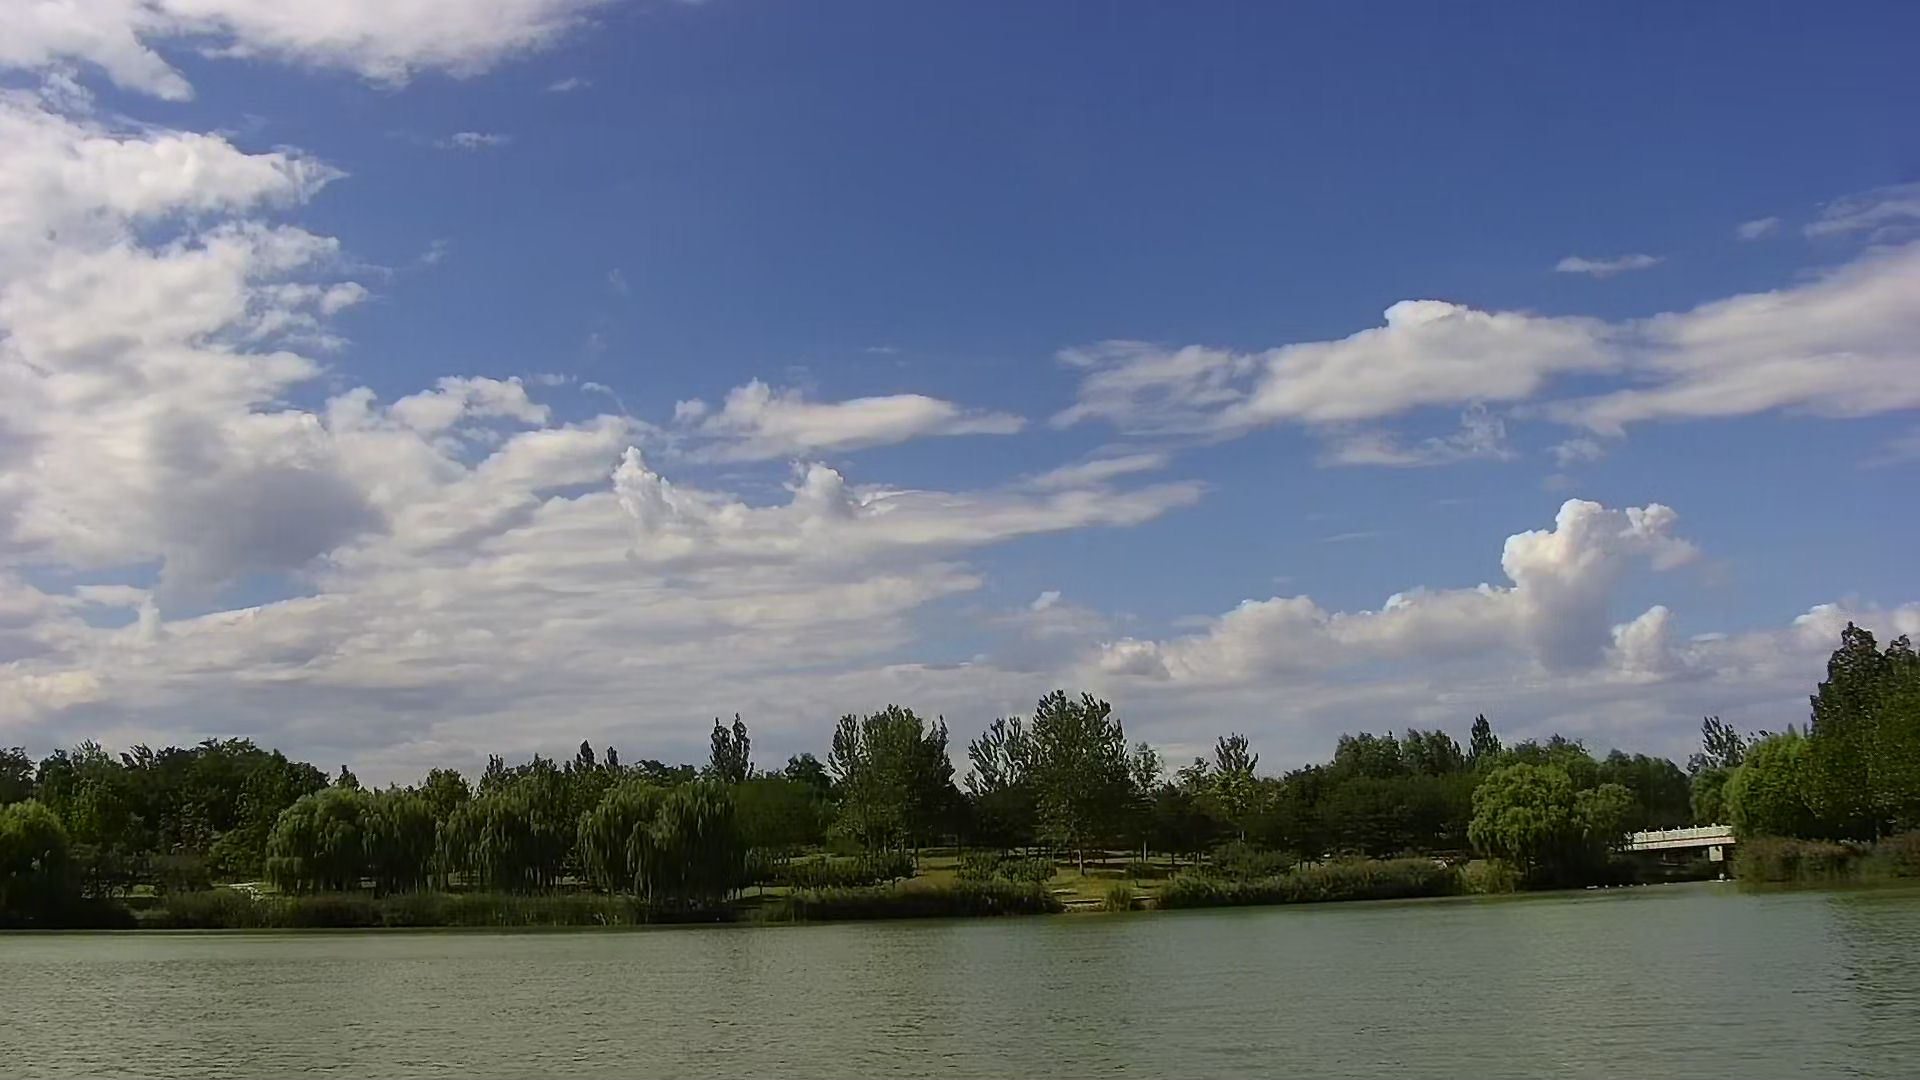bridge: (1629, 822, 1735, 880)
